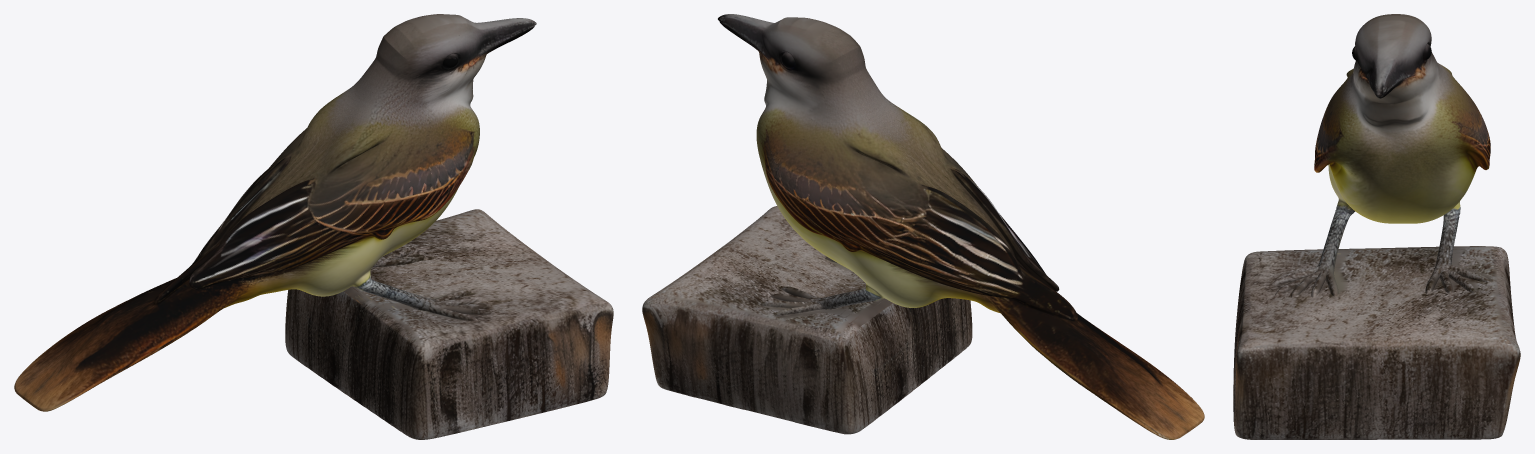
File: nm__kingbird.glb
3 views of the same model, side by side, from view 1: azimuth 30°, elevation 25°; view 2: azimuth 150°, elevation 25°; view 3: azimuth 270°, elevation 25° (orthographic). The views are drawn at different scales.
Parts seen in each view (by area): view 1: Object_2, Object_3; view 2: Object_2, Object_3; view 3: Object_2, Object_3.
Boxes of the visible parts, x1=… form: Object_2: x1=14, y1=14, x2=613, y2=439; Object_3: x1=15, y1=16, x2=581, y2=439; Object_2: x1=642, y1=14, x2=1204, y2=439; Object_3: x1=645, y1=15, x2=1203, y2=436; Object_2: x1=1233, y1=14, x2=1520, y2=439; Object_3: x1=1239, y1=15, x2=1517, y2=439.
Bounding box in the file's own units: 0.7692 × 0.5082 × 0.3615.
Materials: 1 (1 with a texture image).
